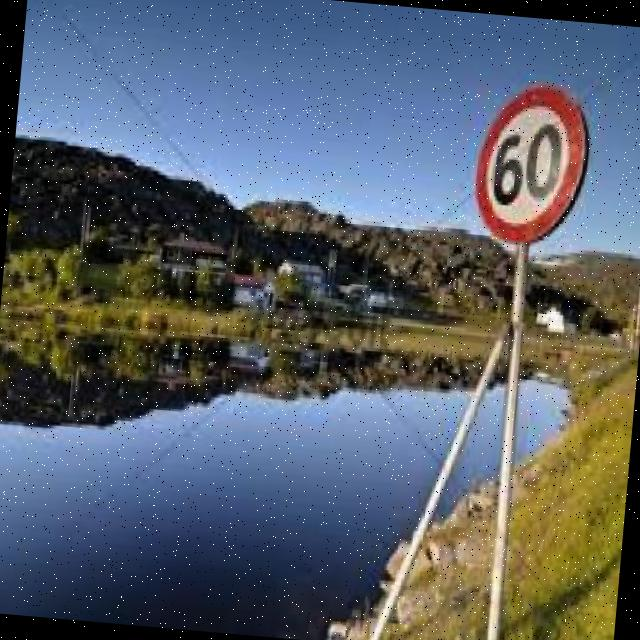Ograniczenie predkosci do 60: (468, 80, 599, 250)
